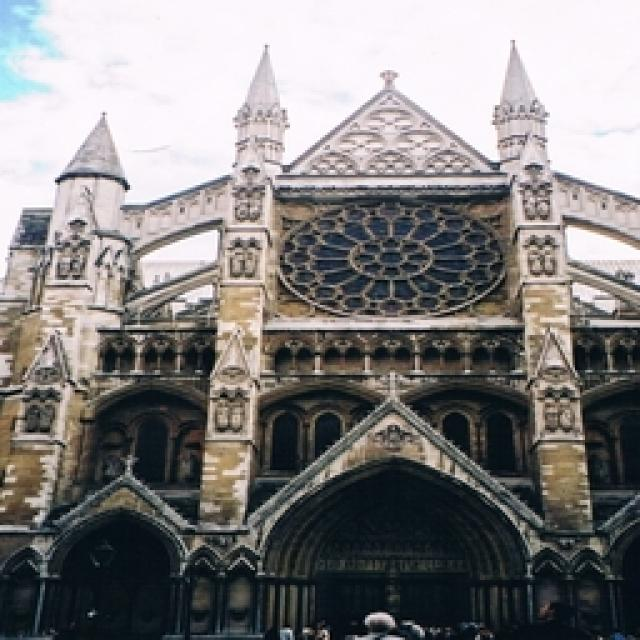Abbey: (257, 271, 553, 640)
